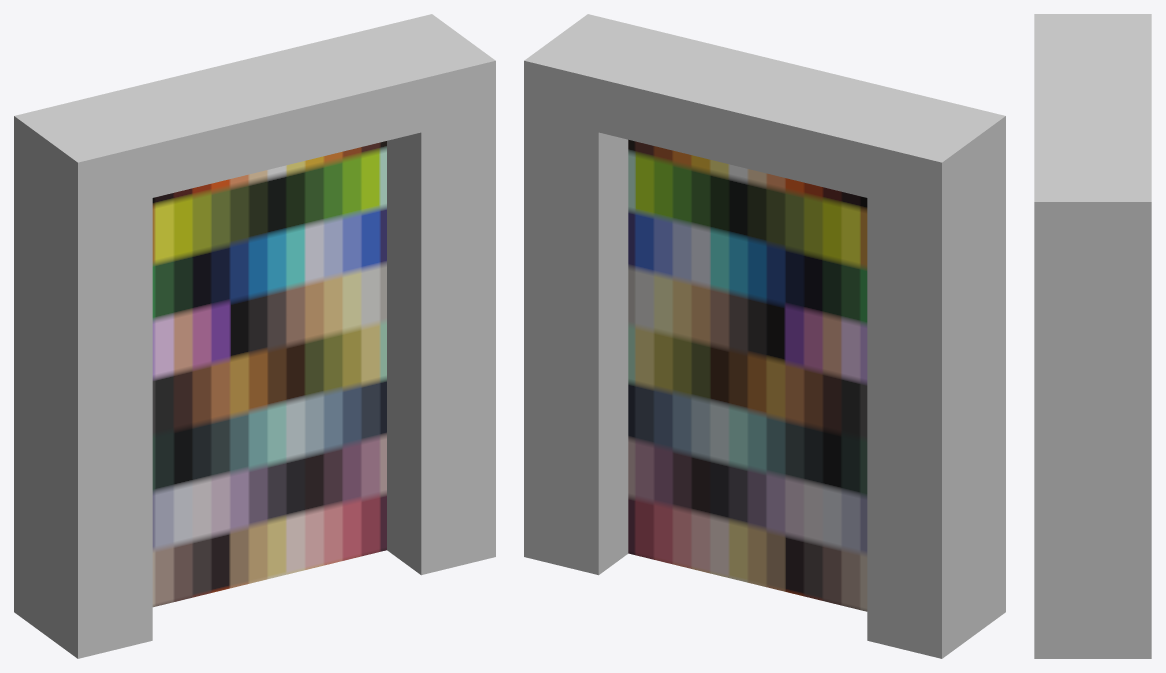
Rendered from Portal.fbx.
The picture shows the model from 3 angles, left to right: view 1: azimuth 30°, elevation 25°; view 2: azimuth 150°, elevation 25°; view 3: azimuth 270°, elevation 25°; orthographic projection. The views are drawn at different scales.
Visible parts, largest first — view 1: Cube, Plane; view 2: Cube, Plane; view 3: Cube.
Part boxes in pixels (left/top/right/bottom): Cube: left=14, top=14, right=495, bottom=658; Plane: left=152, top=141, right=386, bottom=607; Cube: left=524, top=14, right=1005, bottom=658; Plane: left=628, top=139, right=867, bottom=611; Cube: left=1034, top=14, right=1151, bottom=658.
Bounding box in the file's own units: 24.24 × 91.65 × 104.
